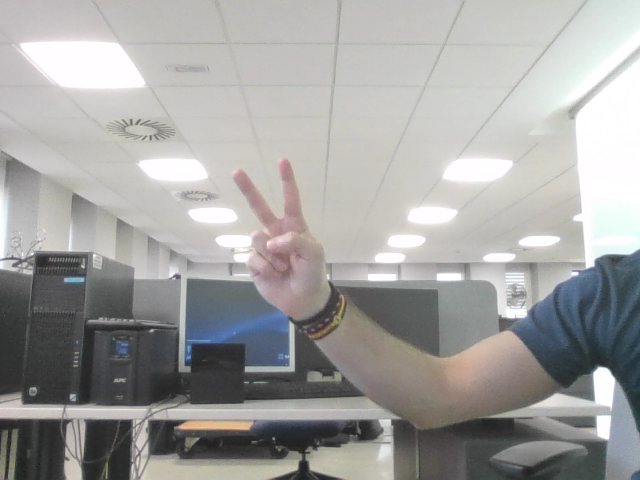2Dedos: (241, 169, 309, 272)
